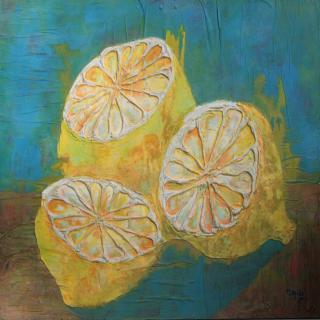Lemon: (158, 101, 296, 257), (57, 38, 191, 198), (33, 178, 159, 305)
Orange: (62, 38, 197, 211), (161, 105, 287, 247), (35, 179, 168, 308)
